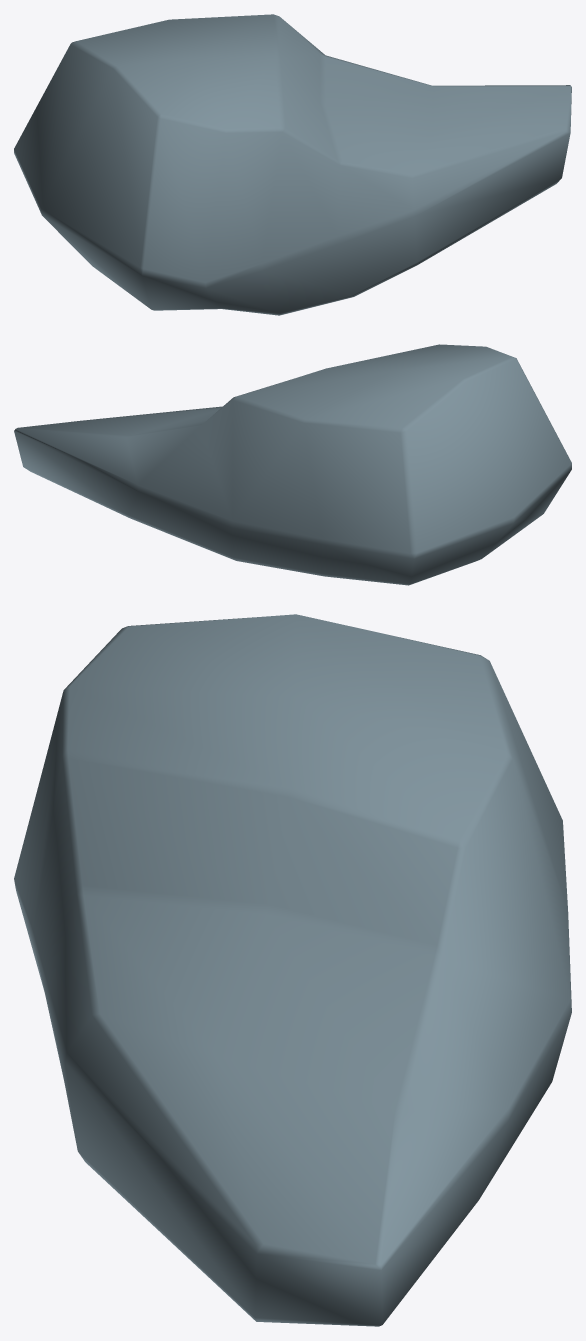
The model's file is Stone_2.fbx.
3 views of the same model, one above another, from view 1: azimuth 30°, elevation 25°; view 2: azimuth 150°, elevation 25°; view 3: azimuth 270°, elevation 25° (orthographic). The views are drawn at different scales.
Parts seen in each view (by area): view 1: Rocks_2; view 2: Rocks_2; view 3: Rocks_2.
Part boxes in pixels (<box>): Rocks_2: <box>14,14,571,315</box>; Rocks_2: <box>14,344,571,585</box>; Rocks_2: <box>14,614,571,1326</box>.
Size of the model in its own units: 27.72 by 11.7 by 14.6.
